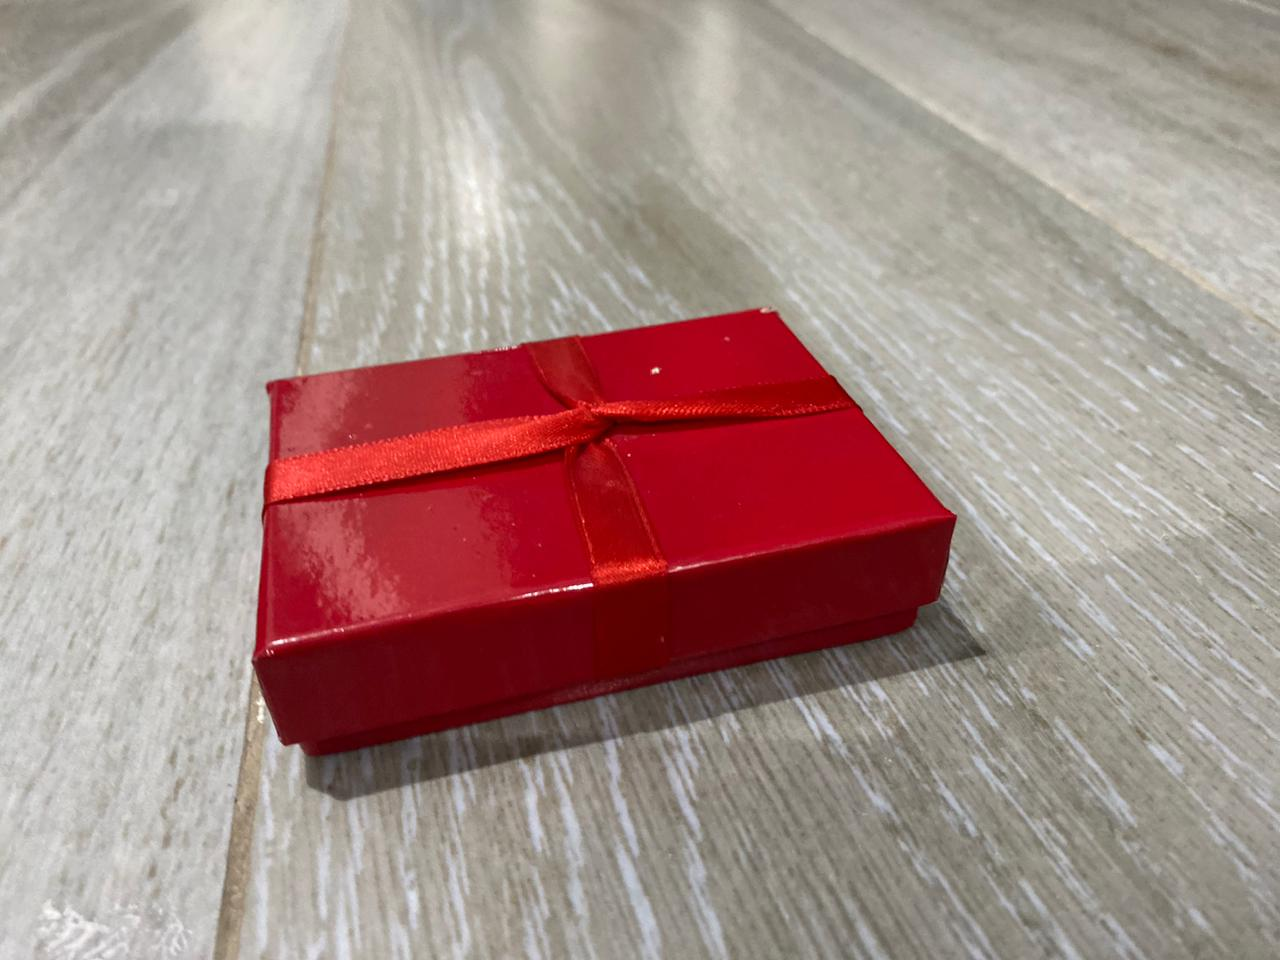Black Box: (249, 304, 969, 770)
